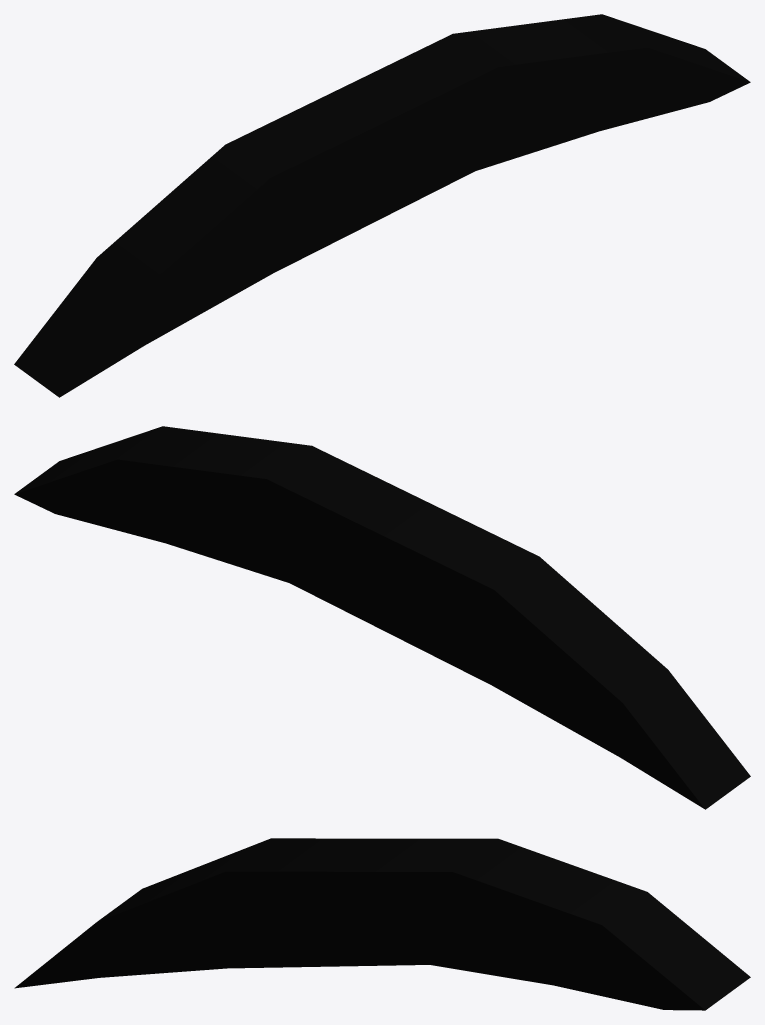
The model's file is elf_eyebrow_L.fbx.
3 renders of one model, top to bottom at view 1: azimuth 30°, elevation 25°; view 2: azimuth 150°, elevation 25°; view 3: azimuth 330°, elevation 25°, orthographic.
Visible parts, largest first — view 1: elf_eyebrow_L; view 2: elf_eyebrow_L; view 3: elf_eyebrow_L.
Part boxes in pixels (box(x1,y1,x2,y2)): elf_eyebrow_L: box(14, 14, 750, 397); elf_eyebrow_L: box(14, 426, 750, 809); elf_eyebrow_L: box(14, 838, 750, 1010).
Size of the model in its own units: 8.63 by 2.67 by 0.9827.
1 material, 1 textured.
